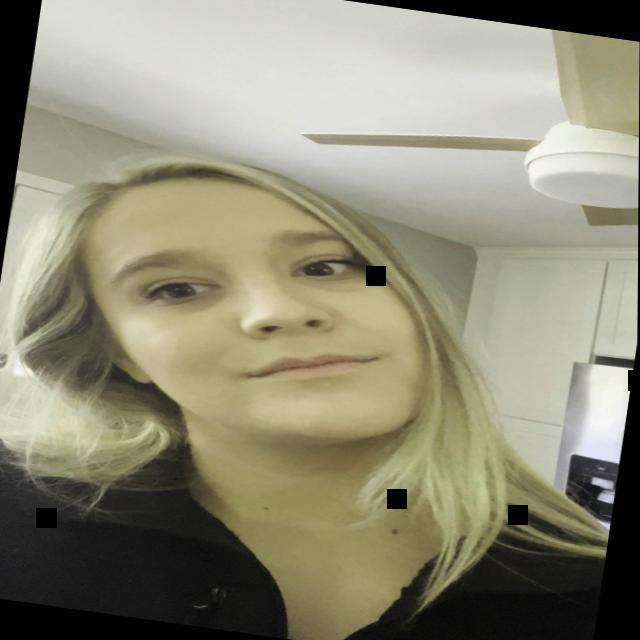NO-Mask: (23, 156, 508, 526)
